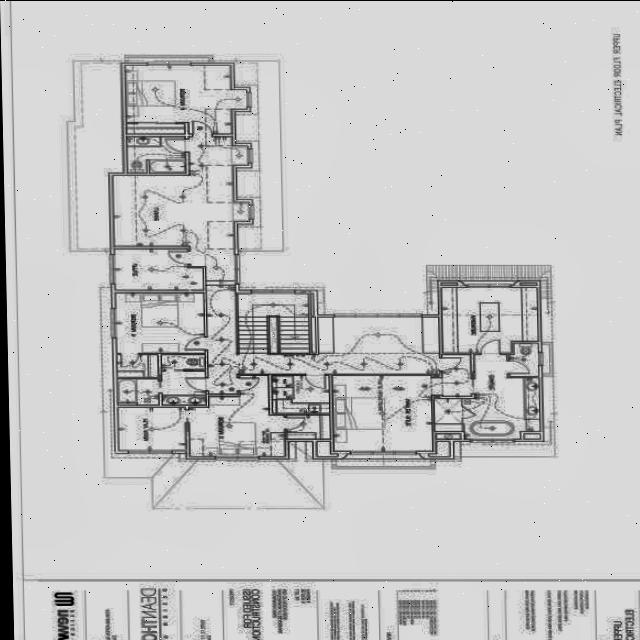room: (332, 353, 473, 453), (434, 354, 540, 438), (125, 65, 247, 133), (189, 375, 285, 455), (116, 292, 205, 352), (115, 248, 204, 289), (118, 407, 186, 450), (127, 136, 186, 172), (272, 375, 329, 412), (162, 370, 206, 404), (117, 378, 159, 404), (287, 414, 330, 438), (509, 342, 539, 376), (117, 354, 158, 376), (161, 354, 205, 368), (126, 123, 185, 133)
